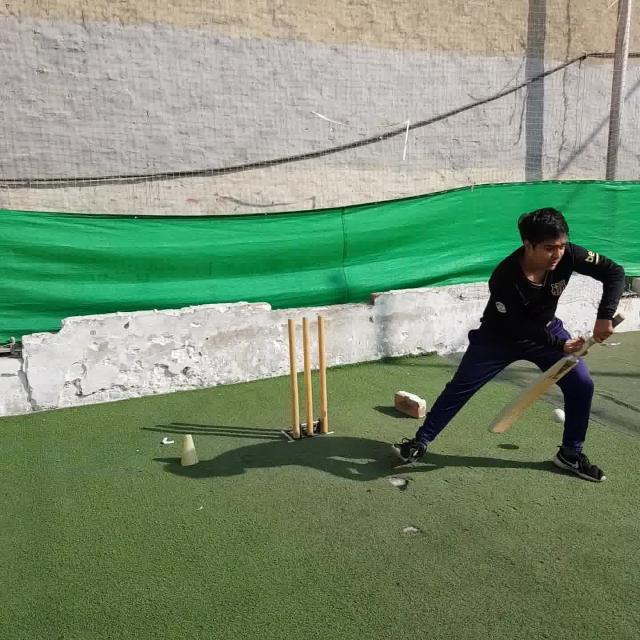ball: (553, 409, 565, 424)
bat: (490, 313, 624, 433)
